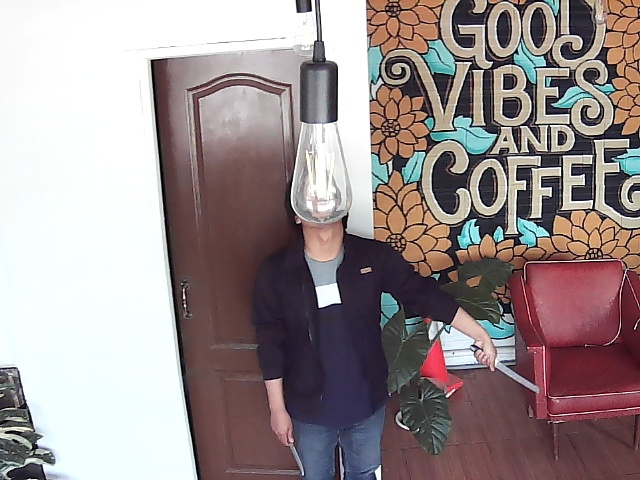cuchillo: (465, 334, 547, 401)
